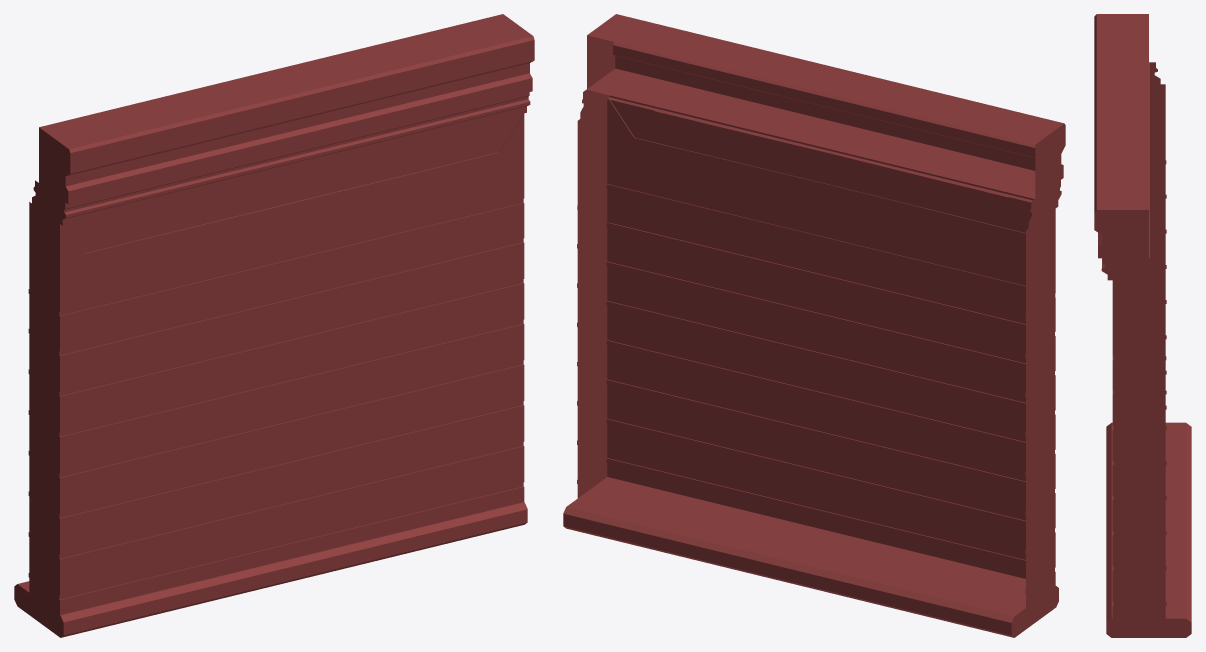
Rendered from O_V_FacadeType1Blank_Down.fbx.
3 views of the same model, side by side, from view 1: azimuth 30°, elevation 25°; view 2: azimuth 150°, elevation 25°; view 3: azimuth 270°, elevation 25° (orthographic). The views are drawn at different scales.
Visible parts, largest first — view 1: O_V_FacadeType1Blank_Down; view 2: O_V_FacadeType1Blank_Down; view 3: O_V_FacadeType1Blank_Down.
Part boxes in pixels (box(x1,y1,x2,y2)): O_V_FacadeType1Blank_Down: box(14, 14, 534, 637); O_V_FacadeType1Blank_Down: box(563, 14, 1065, 637); O_V_FacadeType1Blank_Down: box(1094, 14, 1191, 637).
Bounding box in the file's own units: 6.38 × 6.5 × 1.34.
